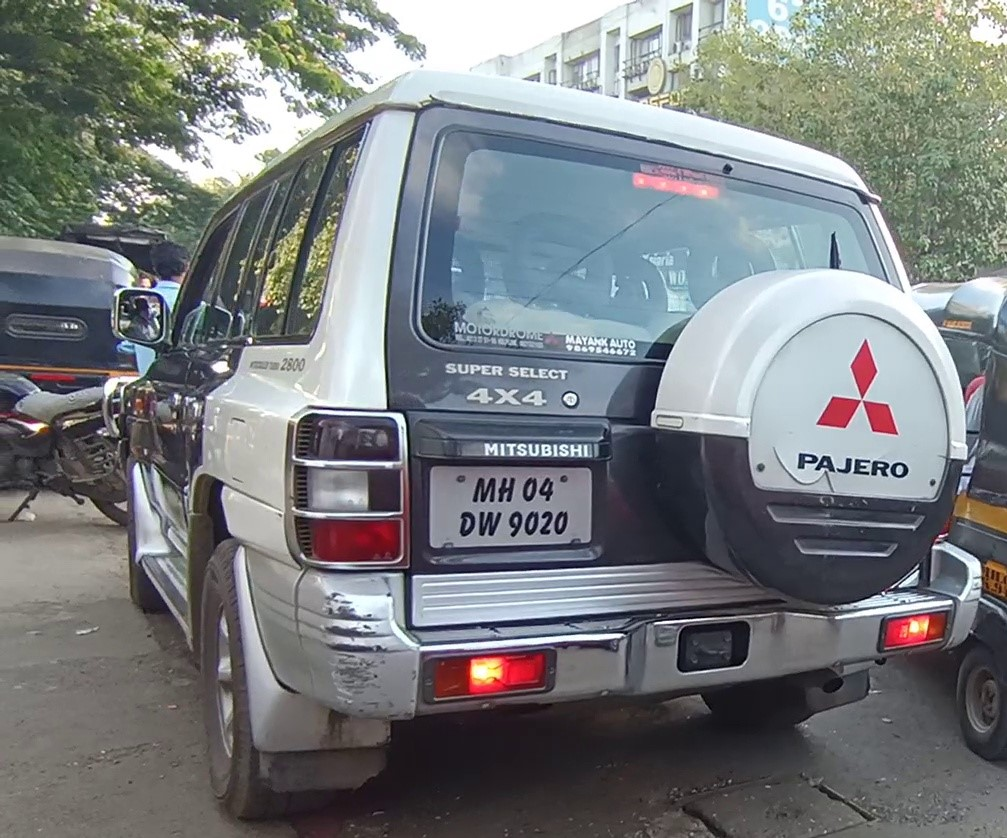MH04DW9020: (426, 459, 593, 551)
